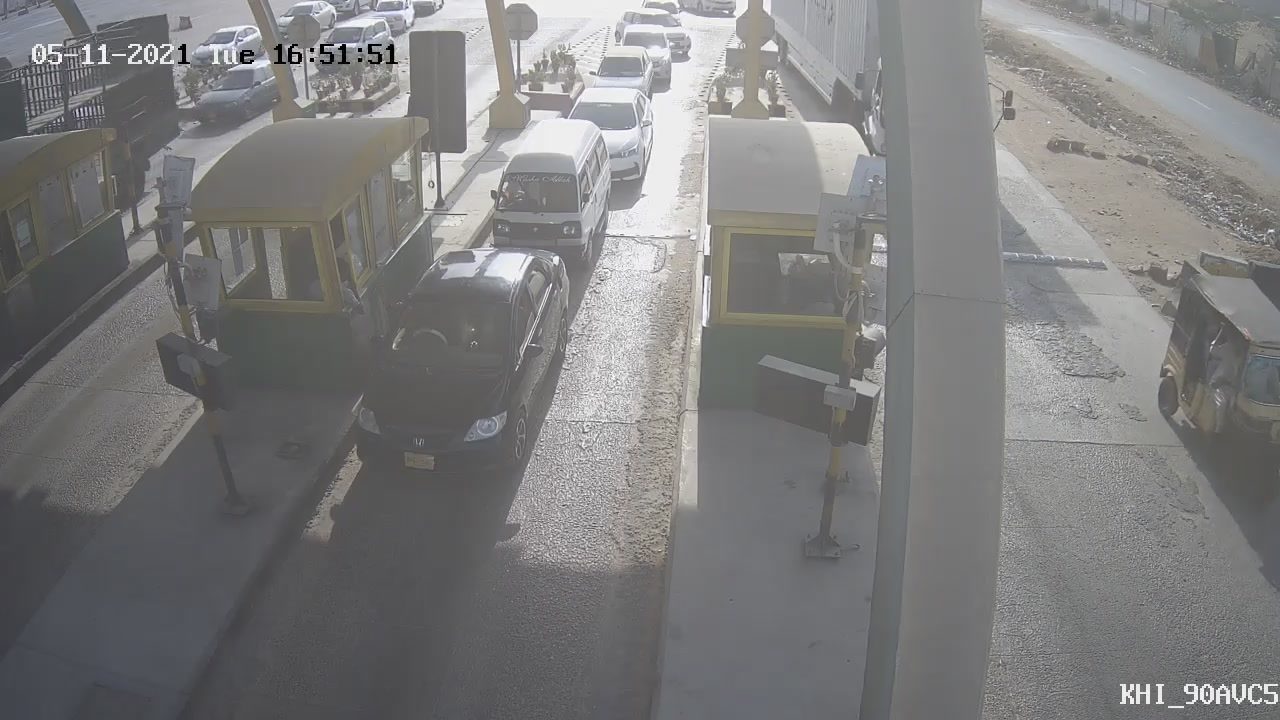F1: (325, 227, 590, 505), (474, 105, 626, 292)
